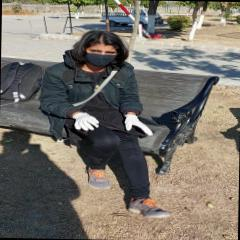gloved: (125, 115, 153, 136), (74, 112, 99, 130)
